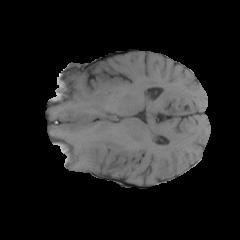glioma: (83, 138, 127, 173)
